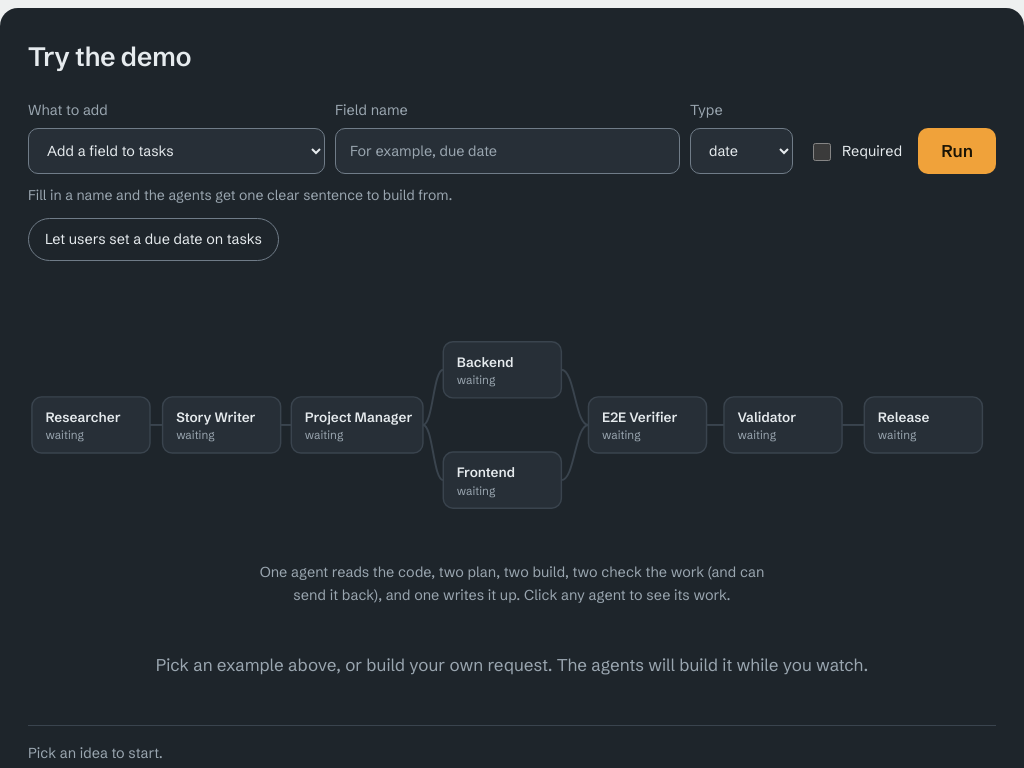
Stage › recovers when the connection drops before the run finishes
Type "nickname" into the field labelled "Field name".
click(508, 151); type("nickname")  # box [335,128,680,174]
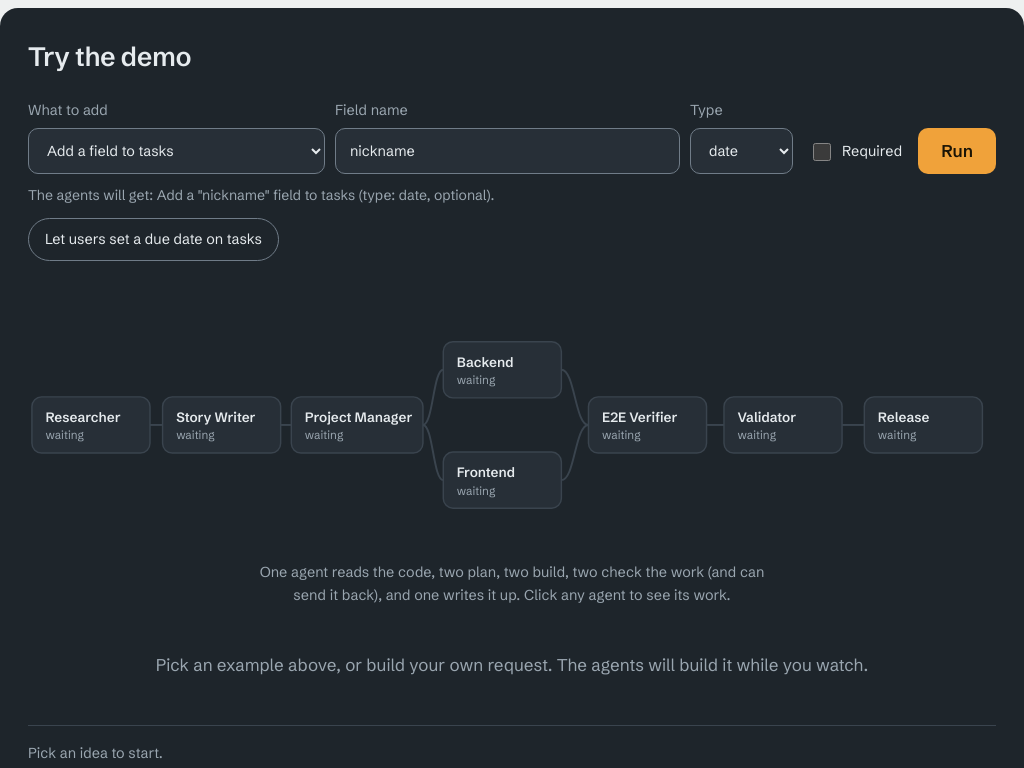
Click the button "Run".
click(957, 151)  # box [918,128,996,174]
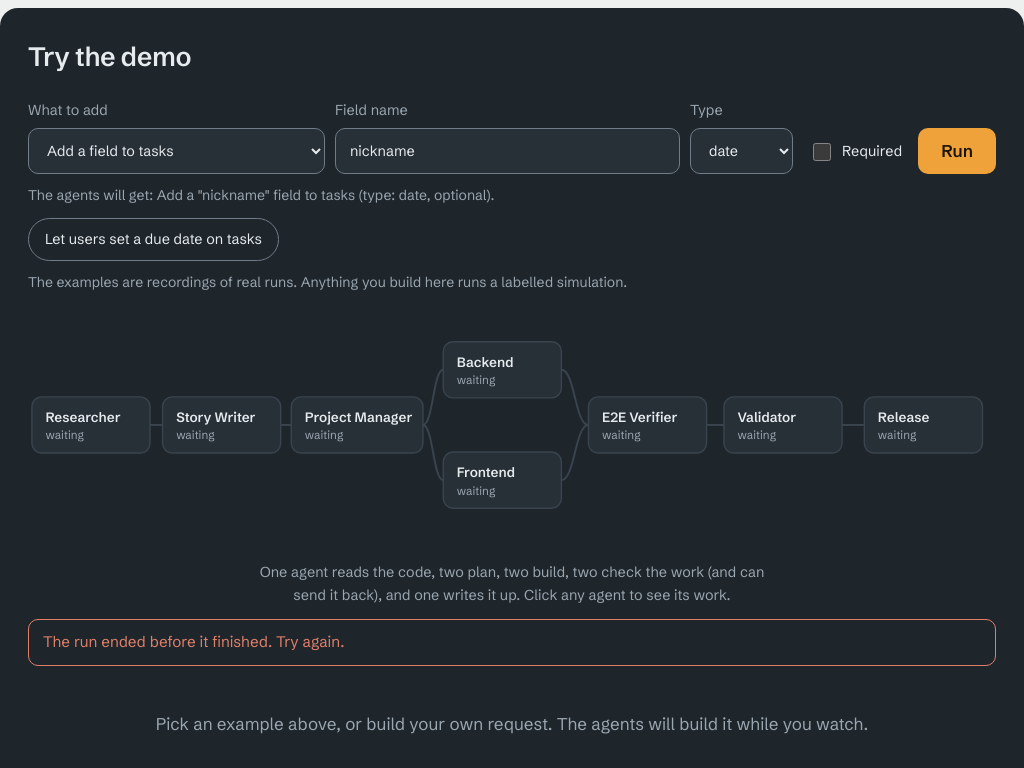
expect the message shows "ended before it finished": met, box [43,632,344,652]
